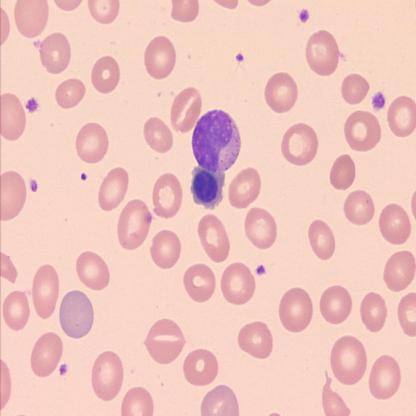NRC: (189, 163, 227, 212)
